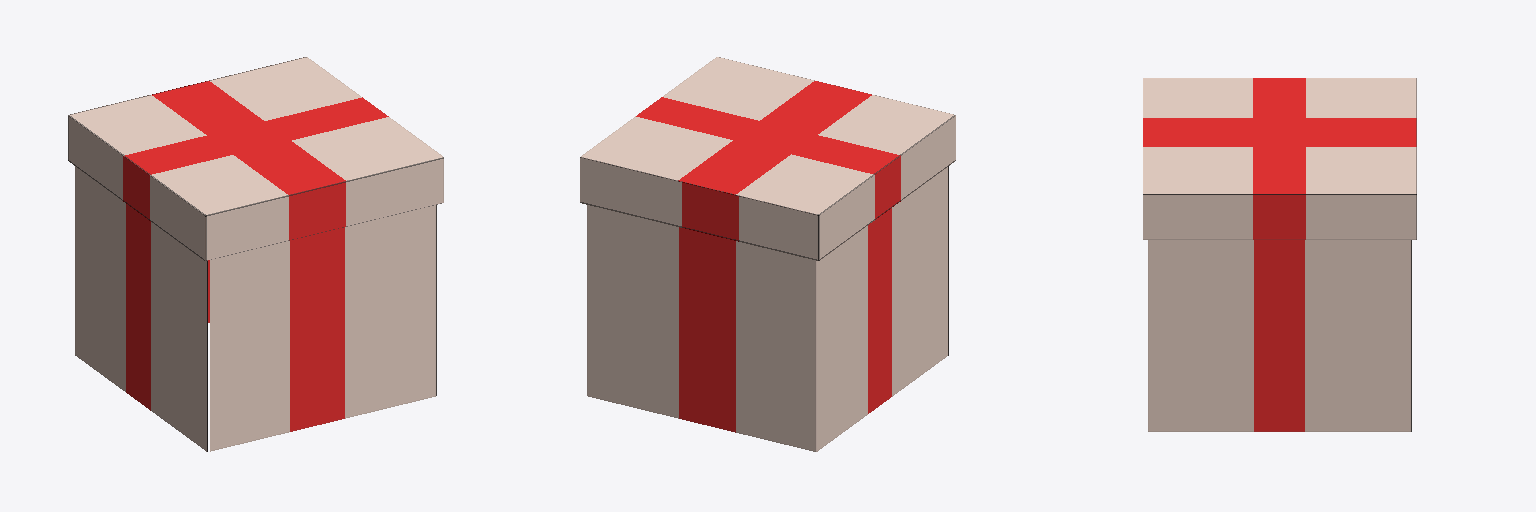
3 views of the same model, side by side, from view 1: azimuth 30°, elevation 25°; view 2: azimuth 150°, elevation 25°; view 3: azimuth 270°, elevation 25° (orthographic).
Visible parts, largest first — view 1: Cube; view 2: Cube; view 3: Cube.
Boxes of the visible parts, <box> form: Cube: <box>68,57,443,451</box>; Cube: <box>580,57,955,451</box>; Cube: <box>1143,78,1416,431</box>.
Size of the model in its own units: 2.09 by 2 by 2.08.
Materials: 1 (1 with a texture image).